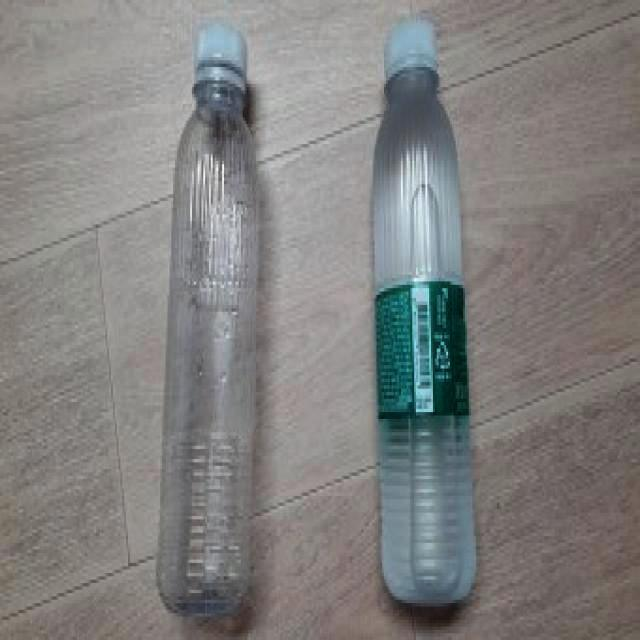bottle: (367, 17, 478, 604), (155, 24, 264, 614)
